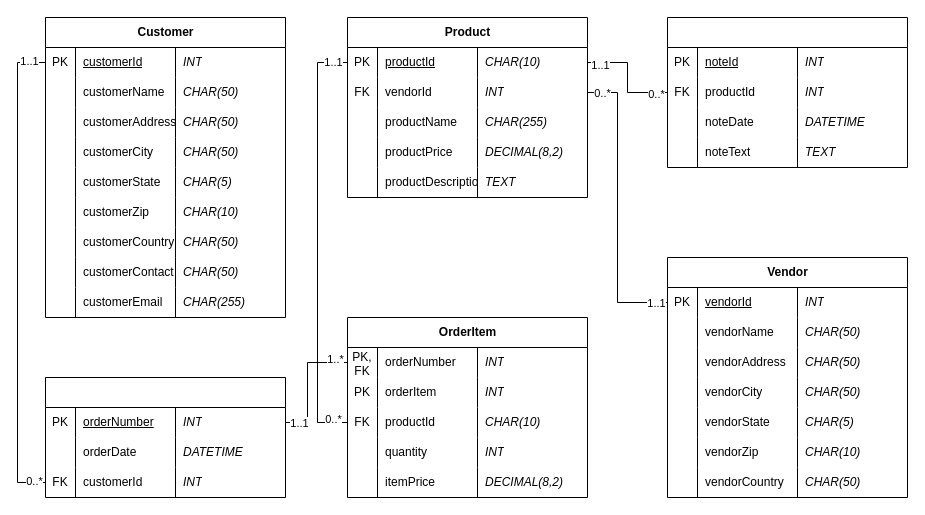
Image size: 925x515. Some labels were removed from this diagram. Here are the shapes that lost their labels. From the top down, the box of each, then its label:
(666, 16, 908, 168): ProductNote
(44, 376, 286, 498): CustomerOrder
